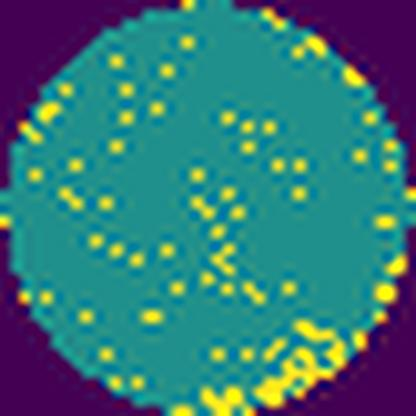Edge-Loc: (257, 318, 354, 408), (200, 388, 257, 416)
